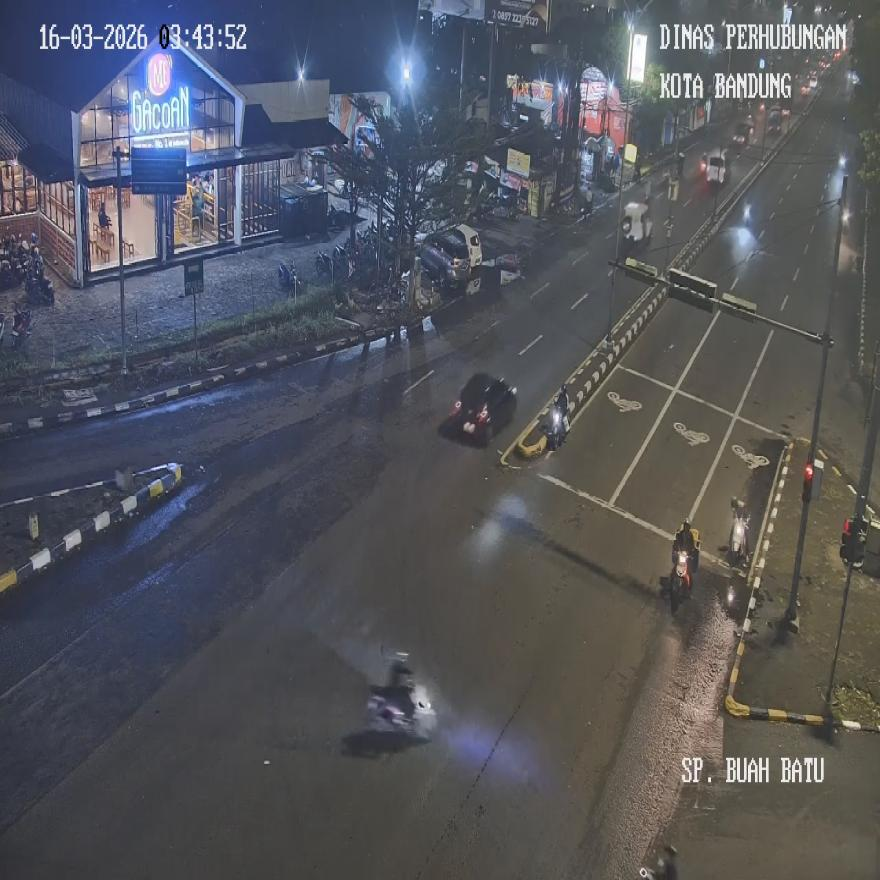Truk: (670, 534, 698, 611), (728, 498, 749, 568), (639, 843, 678, 880), (25, 264, 53, 304), (546, 400, 568, 448), (10, 304, 32, 348), (278, 259, 300, 296)
